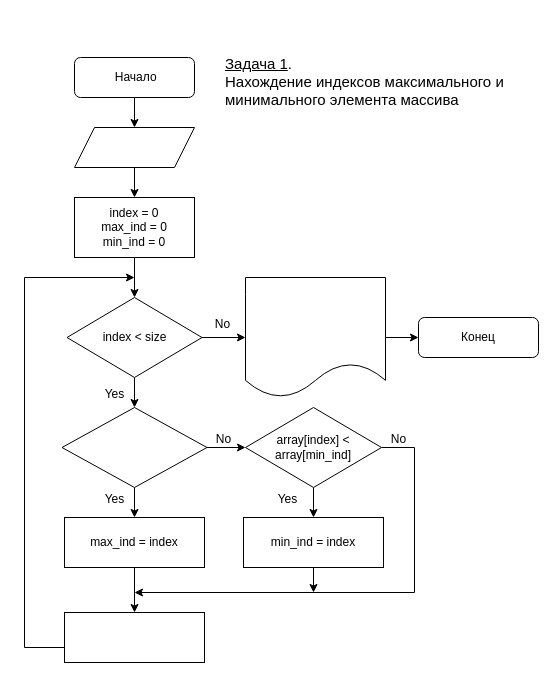
Image size: 556x680. Some labels were removed from this diagram. Each missing label, with the box of its shape:
'Индекс максимального элемента' max_ind 'Индекс минимального элемента' min_ind: (244, 276, 386, 398)
array[index] > array[max_ind]: (61, 406, 207, 488)
index = index + 1: (64, 612, 204, 662)
size array[size]: (74, 126, 194, 168)
